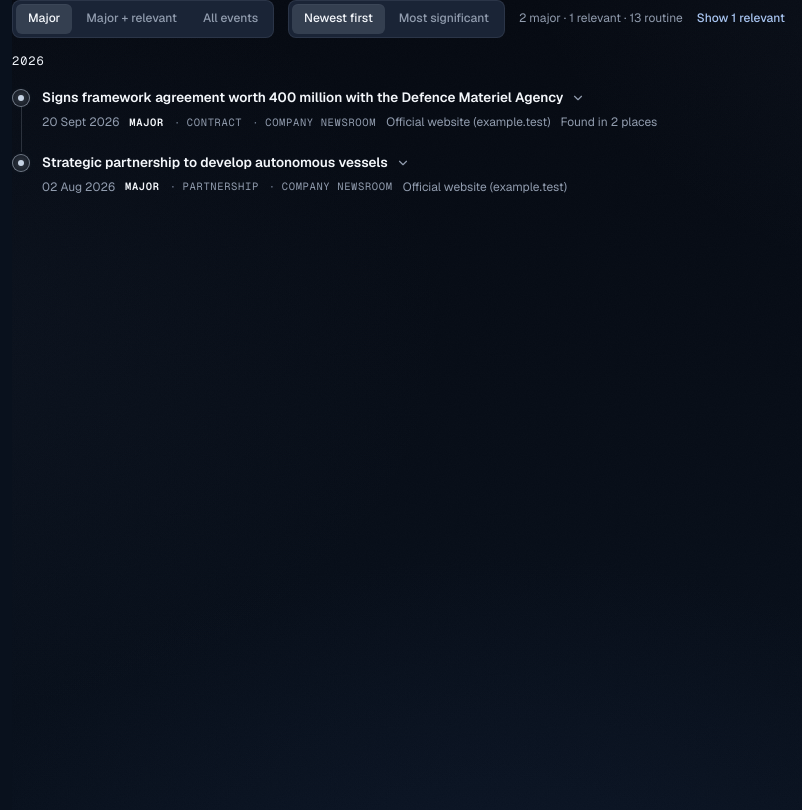
Test: Recent activity timeline › Major + relevant adds relevant events; All events keeps the routine register entries available
Click the button "Major + relevant".
click(132, 19)  # box [74,4,189,34]
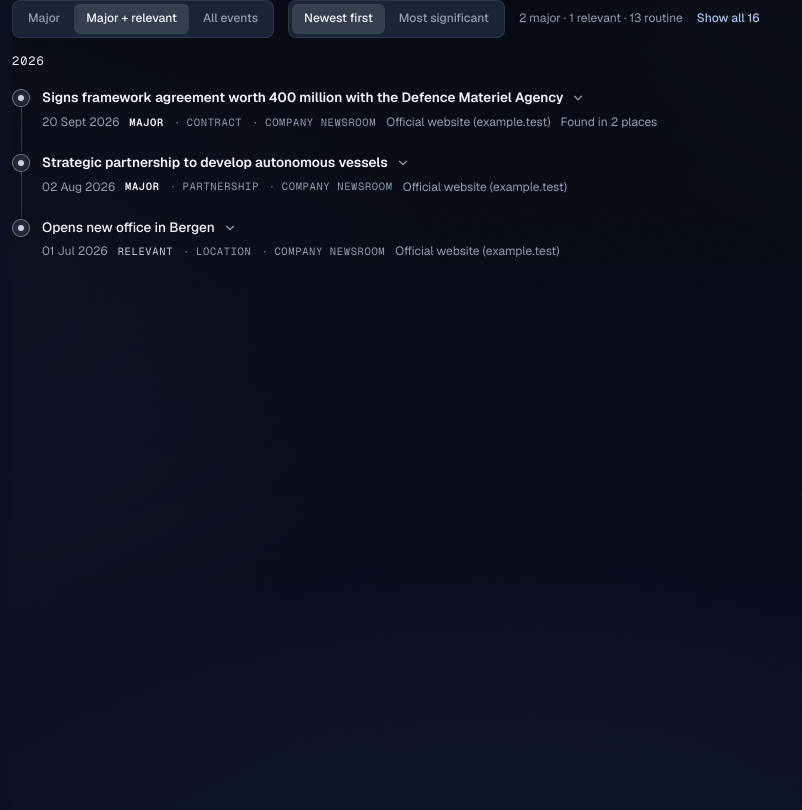
Expected: the text "Invitation to webinar" is not shown
Result: the text "Opens new office in Bergen" is shown at [42,217,215,238]
Click the button "All events".
click(230, 19)  # box [191,4,270,34]
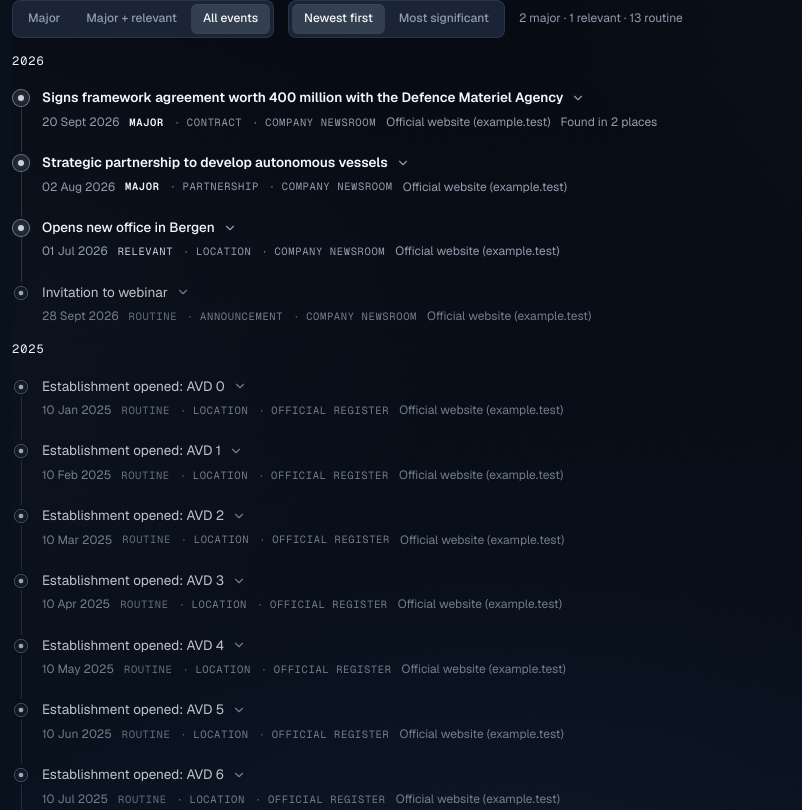
Result: the text "Establishment opened: AVD 0" is shown 12 times
Result: the text "Invitation to webinar" is shown at [42,282,168,303]
